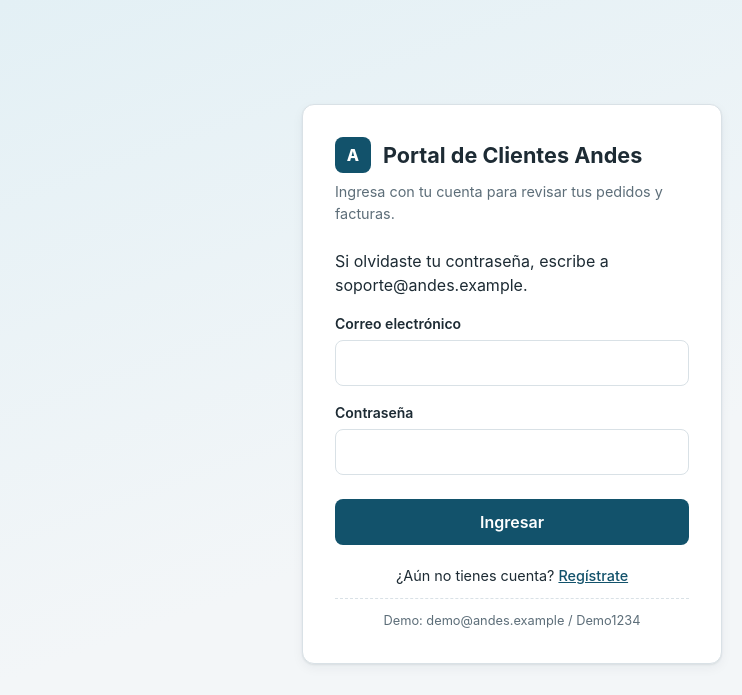
Test: LoginPage › rechaza un correo con formato inválido
The width and height of the screenshot is (742, 695).
Type "correo-sin-arroba" into the field labelled "Correo electrónico".
click(512, 363); type("correo-sin-arroba")  # box [335,340,689,386]
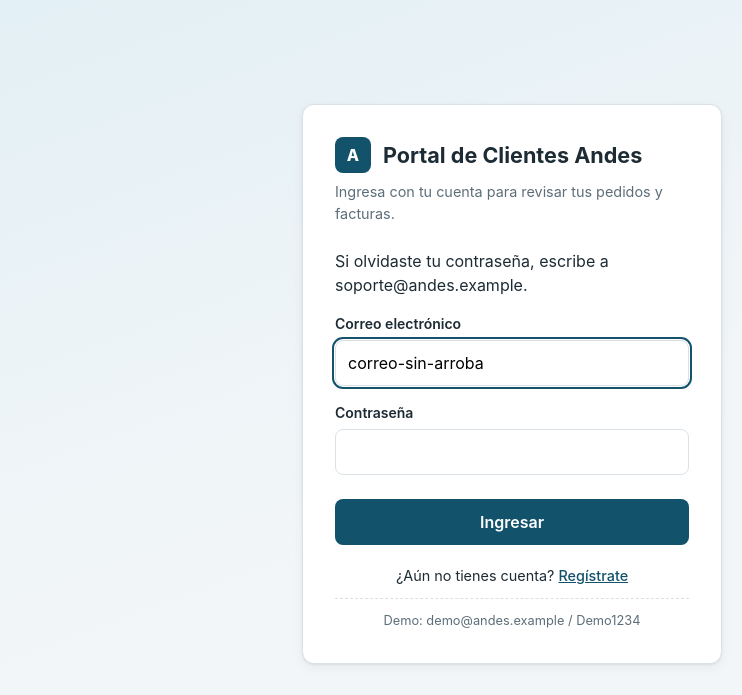
Type "Demo1234" into the password field labelled "Contraseña".
click(512, 452); type("Demo1234")  # box [335,429,689,475]
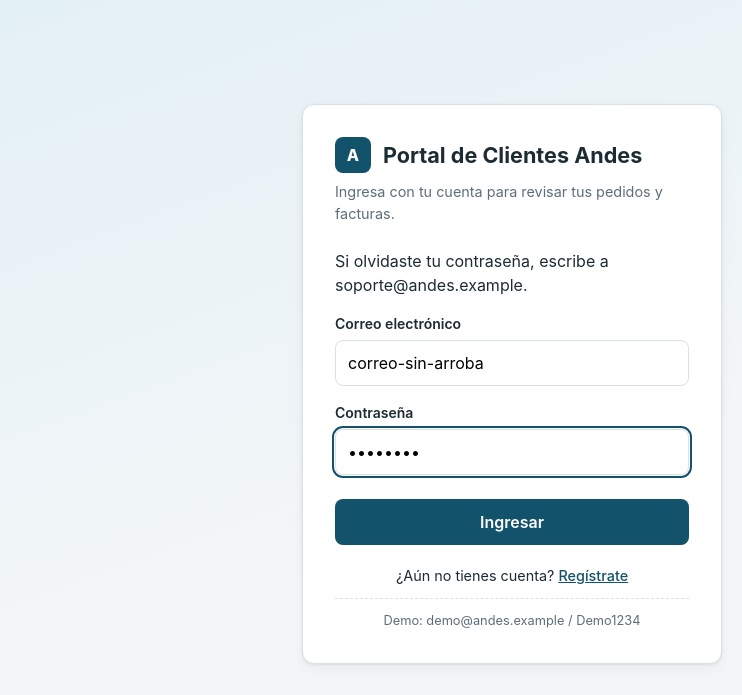
Click the button "Ingresar".
click(512, 522)  # box [335,499,689,545]
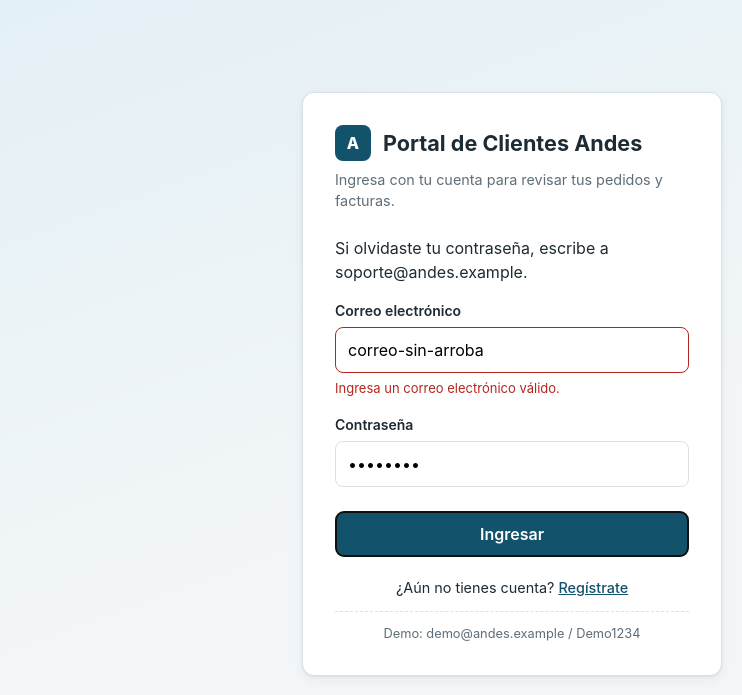
expect the text "Ingresa un correo electrónico válido." is shown: met, box [335,380,560,396]
